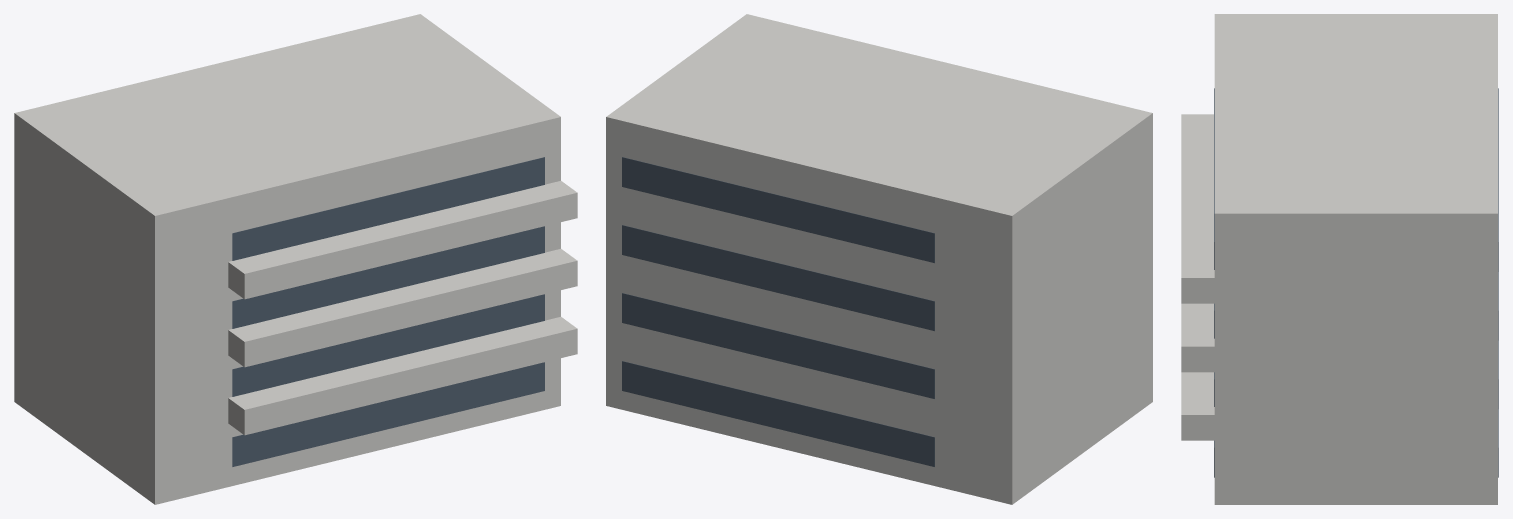
Rendered from apartment.lod2.glb.
3 views of the same model, side by side, from view 1: azimuth 30°, elevation 25°; view 2: azimuth 150°, elevation 25°; view 3: azimuth 270°, elevation 25° (orthographic).
Parts seen in each view (by area): view 1: apartment; view 2: apartment; view 3: apartment.
Part boxes in pixels (x1,y1,x2,y2): apartment: (14,14,577,504); apartment: (606,14,1152,504); apartment: (1181,14,1498,504).
Size of the model in its own units: 20 by 13.6 by 13.42.
